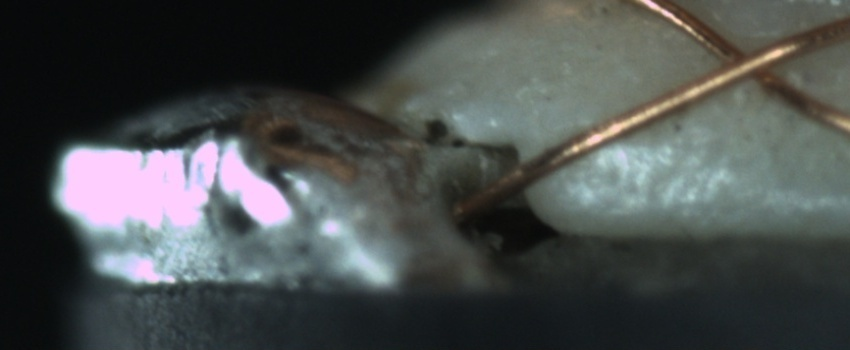CL: (696, 25, 798, 98)
